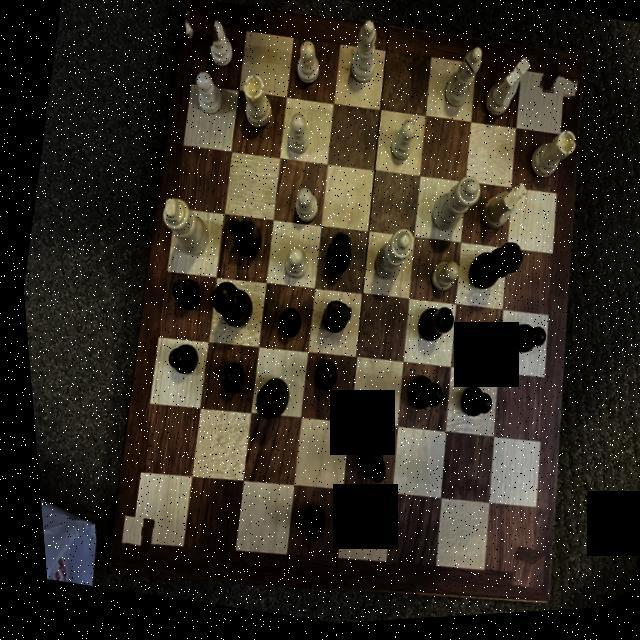chess-table-corners: (536, 61, 581, 106), (178, 6, 220, 52), (498, 550, 536, 596), (109, 514, 146, 556)
